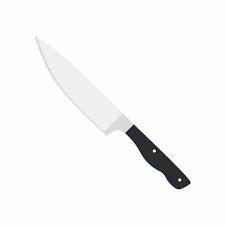Knife: (34, 35, 190, 189)
